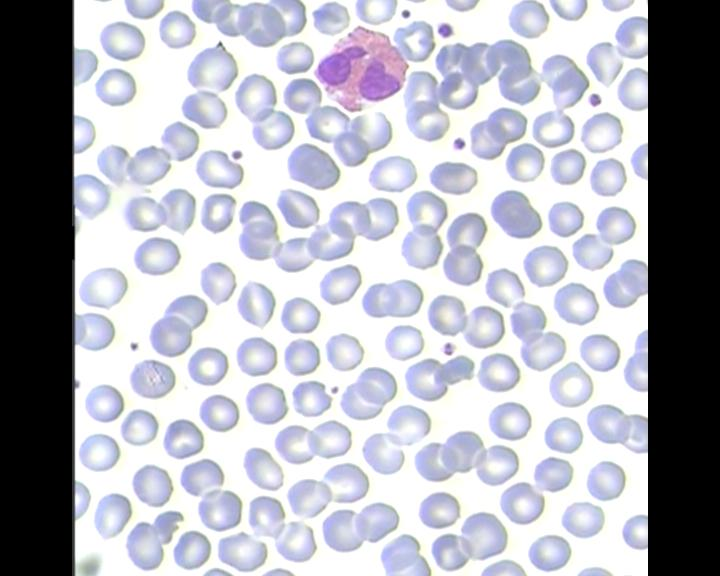eosi: (310, 27, 410, 112)
